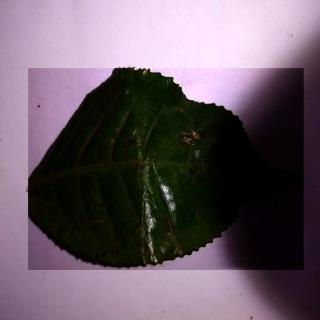Bird Eye Spot: (30, 69, 306, 271)
